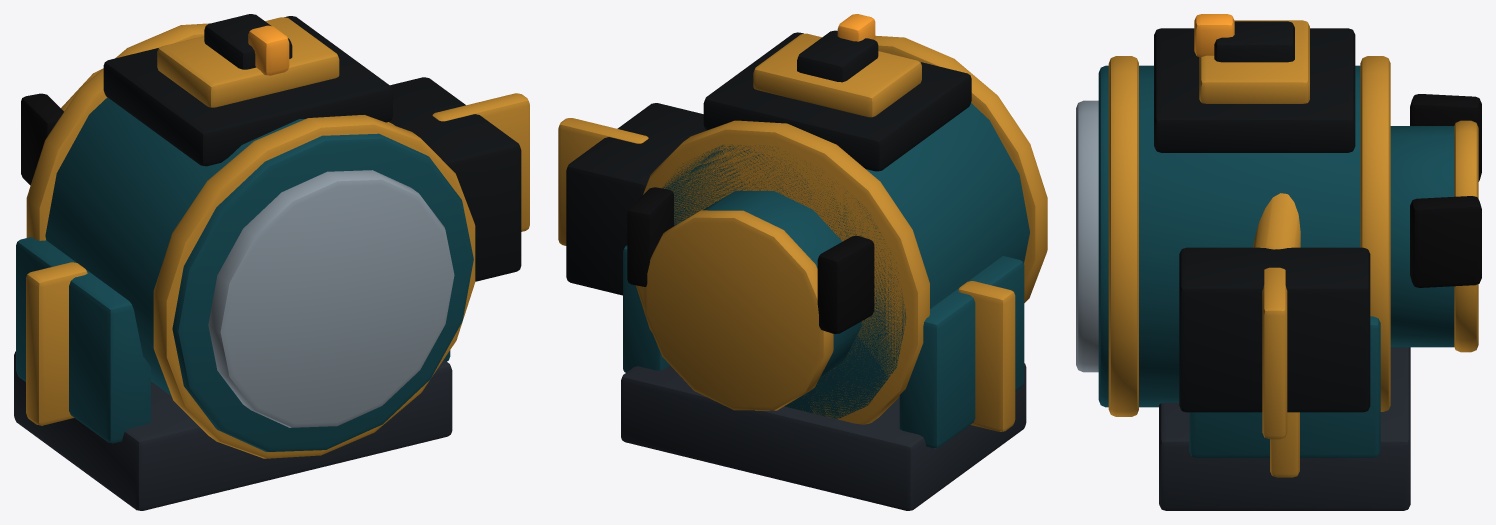
File: GunBody.obj
3 renders of one model, left to right at view 1: azimuth 30°, elevation 25°; view 2: azimuth 150°, elevation 25°; view 3: azimuth 270°, elevation 25°, orthographic. The views are drawn at different scales.
Parts seen in each view (by area): view 1: GunBody; view 2: GunBody; view 3: GunBody.
Boxes of the visible parts, x1=… form: GunBody: x1=14, y1=14, x2=529, y2=510; GunBody: x1=558, y1=14, x2=1047, y2=510; GunBody: x1=1076, y1=14, x2=1481, y2=510.
Bounding box in the file's own units: 1.11 × 0.92 × 0.8064.
